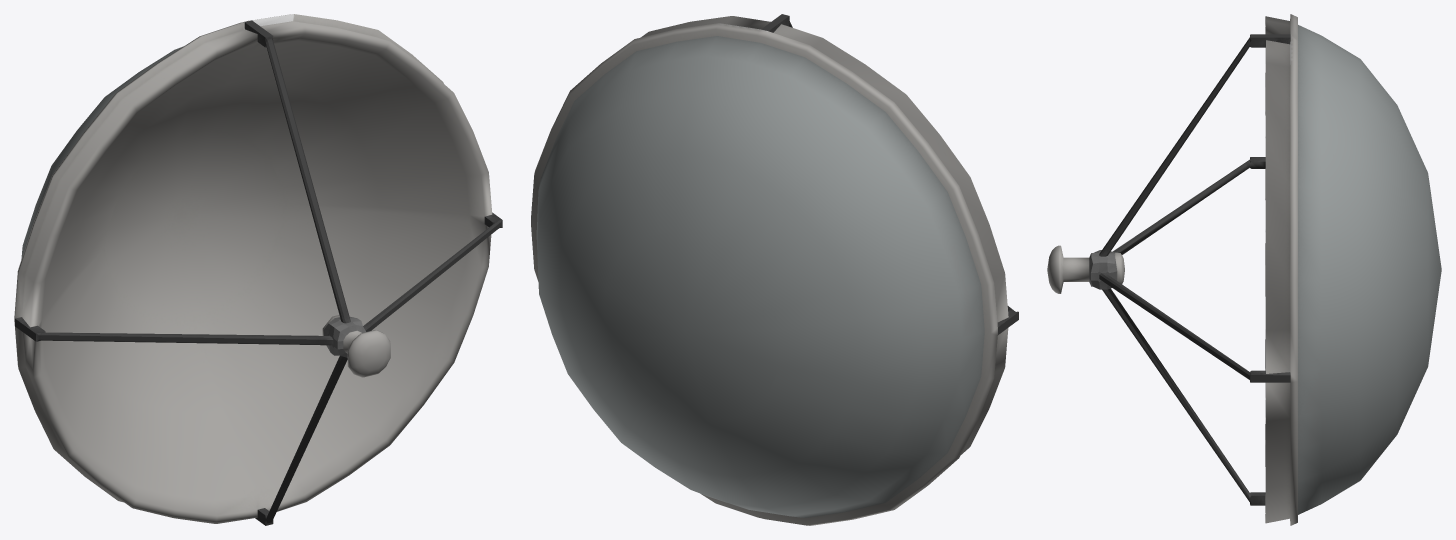
The model's file is MA_SATELLITE.fbx.
3 renders of one model, left to right at view 1: azimuth 30°, elevation 25°; view 2: azimuth 150°, elevation 25°; view 3: azimuth 270°, elevation 25°, orthographic. The views are drawn at different scales.
Visible parts, largest first — view 1: Sphere; view 2: Sphere; view 3: Sphere.
Part boxes in pixels (x1=…): Sphere: x1=14, y1=14, x2=502, y2=525; Sphere: x1=531, y1=14, x2=1018, y2=525; Sphere: x1=1047, y1=14, x2=1441, y2=525.
Size of the model in its own units: 201 by 201 by 154.
